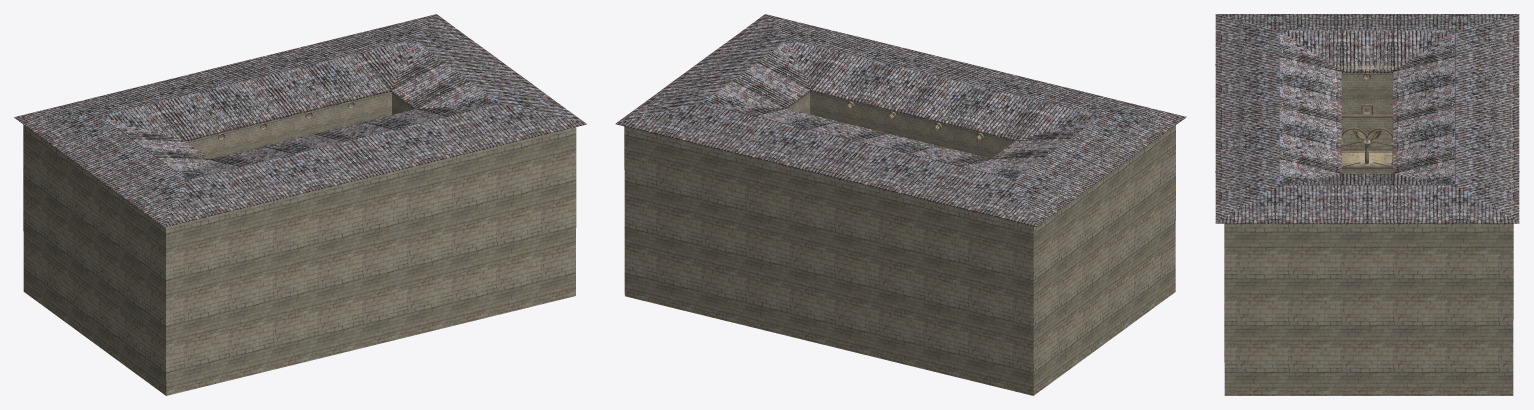
Rendered from sponza.fbx.
3 views of the same model, side by side, from view 1: azimuth 30°, elevation 25°; view 2: azimuth 150°, elevation 25°; view 3: azimuth 270°, elevation 25° (orthographic).
Parts seen in each view (by area): view 1: sponza; view 2: sponza; view 3: sponza.
Part boxes in pixels (left/top/right/bottom): sponza: left=14, top=14, right=586, bottom=395; sponza: left=615, top=14, right=1186, bottom=395; sponza: left=1215, top=14, right=1519, bottom=395.
Bounding box in the file's own units: 372085 × 155588 × 228823.
Materials: 25 (24 with a texture image).
